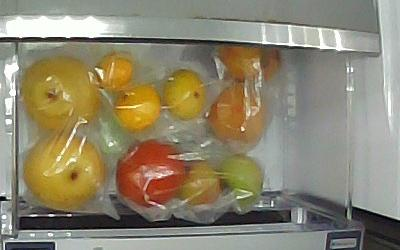peach_vinyl: (210, 83, 266, 147), (216, 46, 284, 84)
pear_vinyl: (22, 131, 106, 207), (22, 56, 100, 133)
tangerine_vinyl: (114, 83, 162, 131), (164, 69, 207, 122), (93, 55, 134, 87)
tomato_vinyl: (115, 137, 186, 211), (218, 155, 264, 204), (182, 163, 223, 205)
